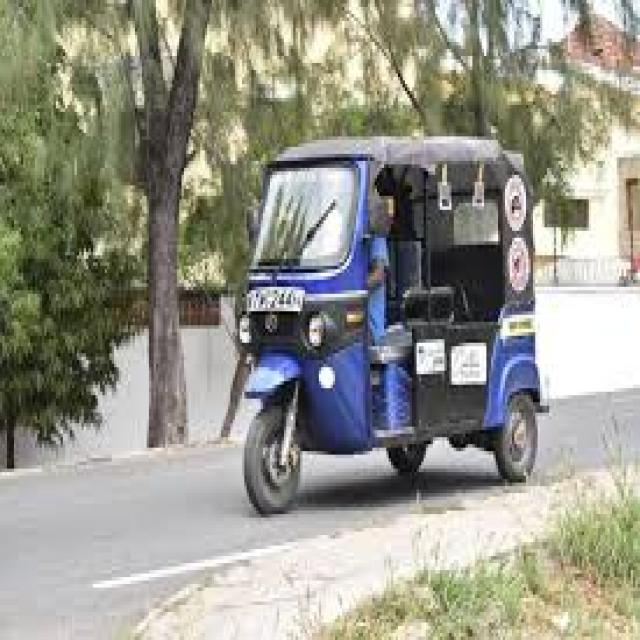tuktuk: (203, 55, 597, 538)
